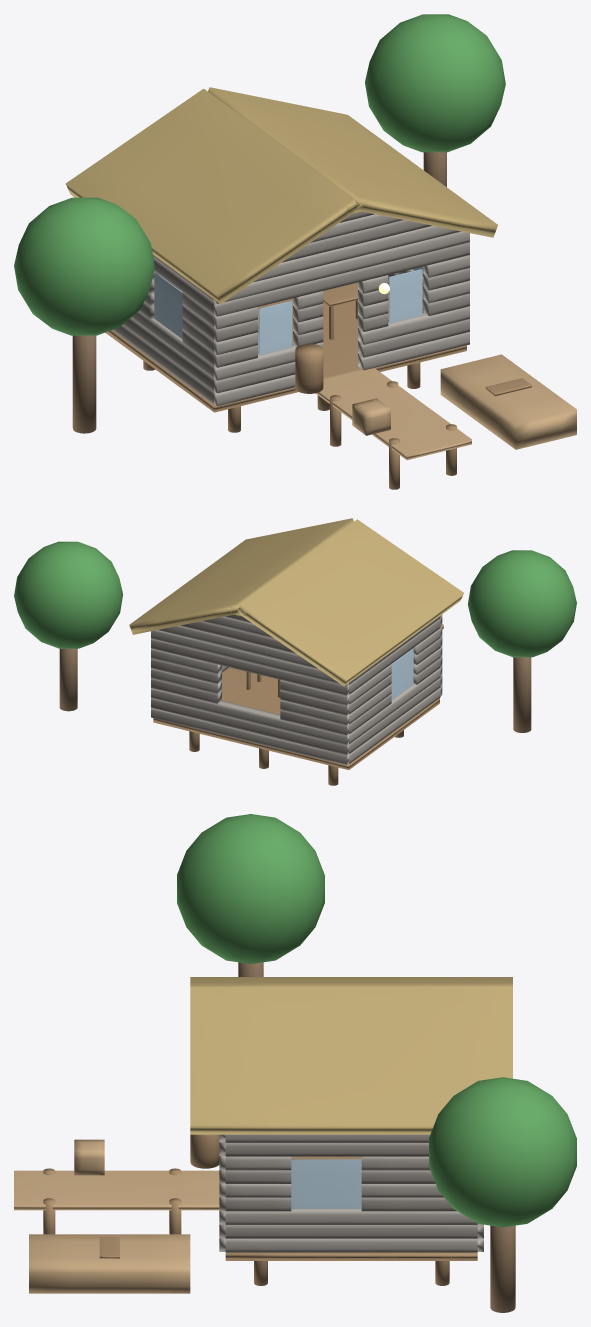
The model's file is cabana_3_pescador_pilotes.glb.
The picture shows the model from 3 angles, top to bottom: view 1: azimuth 30°, elevation 25°; view 2: azimuth 150°, elevation 25°; view 3: azimuth 270°, elevation 25°; orthographic projection. The views are drawn at different scales.
Parts seen in each view (by area): view 1: TechoIzq, Muro (×16), Arbol1_Copa, Arbol2_Copa, TechoDer, Barca, Muelle, Fronton (×3), Cristal (×3), Plataforma, Arbol1_Tronco, Barril (+3 smaller); view 2: Muro (×21), TechoIzq, Arbol2_Copa, Arbol1_Copa, TechoDer, Plataforma, Fronton (×3), Arbol1_Tronco, Arbol2_Tronco, Cristal; view 3: TechoDer, Muro (×13), Arbol2_Copa, Arbol1_Copa, Barca, Muelle, Cristal, TechoIzq, Plataforma, Arbol2_Tronco, Cajon, Barril.
Part boxes in pixels (x1,y1,x2,y2): TechoIzq: (65,88,358,303); Muro (×16): (112,231,469,405); Arbol1_Copa: (14,197,154,335); Arbol2_Copa: (365,14,505,152); TechoDer: (208,87,497,237); Barca: (440,354,576,449); Muelle: (315,368,471,460); Fronton (×3): (253,214,461,282); Cristal (×3): (154,269,422,354); Plataforma: (105,294,466,412); Arbol1_Tronco: (72,335,96,433); Barril: (295,343,323,393); Muro (×21): (151,618,440,765); TechoIzq: (237,519,463,685); Arbol2_Copa: (14,541,122,648); Arbol1_Copa: (468,550,576,657); TechoDer: (129,518,353,634); Plataforma: (153,667,439,769); Fronton (×3): (158,616,318,669); Arbol1_Tronco: (513,657,531,732); Arbol2_Tronco: (59,648,77,711); Cristal: (391,648,413,699); TechoDer: (190,986,512,1134); Muro (×13): (225,1134,477,1252); Arbol2_Copa: (429,1077,576,1227); Arbol1_Copa: (177,814,324,963); Barca: (29,1234,190,1293); Muelle: (14,1170,219,1210); Cristal: (291,1159,361,1208); TechoIzq: (190,977,512,986); Plataforma: (225,1156,477,1260); Arbol2_Tronco: (490,1225,515,1312); Cajon: (74,1139,104,1175); Barril: (190,1134,219,1168).
Size of what is drawn, in the model's own units: 0.6257 by 0.2717 by 0.484.
